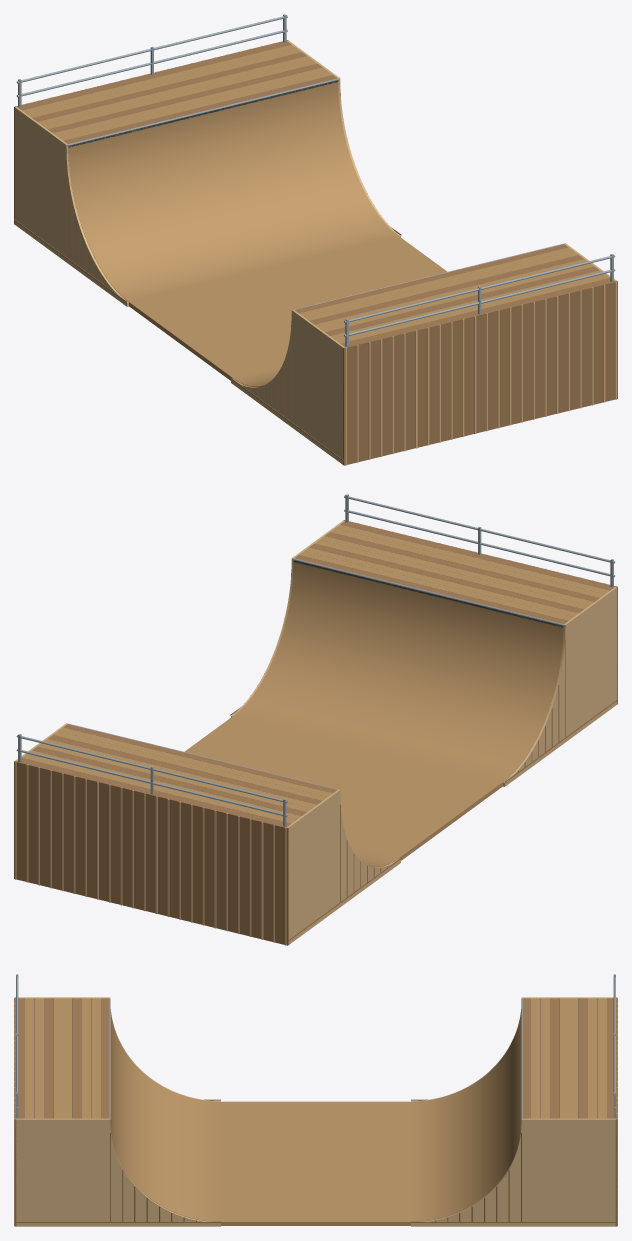
File: skate_mega_halfpipe.glb
3 views of the same model, one above another, from view 1: azimuth 30°, elevation 25°; view 2: azimuth 150°, elevation 25°; view 3: azimuth 270°, elevation 25° (orthographic). The views are drawn at different scales.
Parts seen in each view (by area): view 1: VISUAL__mega_back_ride, VISUAL__mega_front_closed_back, VISUAL__mega_flat, VISUAL__mega_front_deck_side_left, VISUAL__mega_back_deck_side_left, VISUAL__mega_back_side_left, VISUAL__mega_front_side_left, VISUAL__mega_back_deck_plank.003, VISUAL__mega_back_deck_plank.008, VISUAL__mega_front_deck_plank.002, VISUAL__mega_back_deck_plank.007, VISUAL__mega_back_deck_plank.002 (+20 smaller); view 2: VISUAL__mega_front_ride, VISUAL__mega_back_closed_back, VISUAL__mega_flat, VISUAL__mega_front_deck_side_left, VISUAL__mega_back_deck_side_left, VISUAL__mega_front_side_left, VISUAL__mega_back_side_left, VISUAL__mega_back_deck_plank.007, VISUAL__mega_front_deck_plank.001, VISUAL__mega_front_deck_plank.006, VISUAL__mega_front_deck_plank.002, VISUAL__mega_front_deck_plank.003 (+21 smaller); view 3: VISUAL__mega_flat, VISUAL__mega_back_ride, VISUAL__mega_front_ride, VISUAL__mega_back_deck_side_right, VISUAL__mega_front_deck_side_right, VISUAL__mega_back_side_right, VISUAL__mega_front_side_right, VISUAL__mega_back_deck_plank.001, VISUAL__mega_back_deck_plank.002, VISUAL__mega_back_deck_plank.003, VISUAL__mega_back_deck_plank.004, VISUAL__mega_back_deck_plank.005 (+19 smaller).
Boxes of the visible parts, bbox=[...] form: VISUAL__mega_back_ride: bbox=[68, 79, 398, 301]; VISUAL__mega_front_closed_back: bbox=[343, 281, 617, 465]; VISUAL__mega_flat: bbox=[129, 236, 447, 380]; VISUAL__mega_front_deck_side_left: bbox=[291, 309, 344, 464]; VISUAL__mega_back_deck_side_left: bbox=[15, 106, 68, 261]; VISUAL__mega_back_side_left: bbox=[66, 145, 128, 306]; VISUAL__mega_front_side_left: bbox=[231, 321, 291, 426]; VISUAL__mega_back_deck_plank.003: bbox=[32, 52, 306, 121]; VISUAL__mega_back_deck_plank.008: bbox=[58, 71, 332, 140]; VISUAL__mega_front_deck_plank.002: bbox=[304, 251, 578, 320]; VISUAL__mega_back_deck_plank.007: bbox=[53, 67, 327, 136]; VISUAL__mega_back_deck_plank.002: bbox=[27, 48, 301, 117]; VISUAL__mega_front_ride: bbox=[233, 559, 563, 781]; VISUAL__mega_back_closed_back: bbox=[14, 761, 288, 945]; VISUAL__mega_flat: bbox=[184, 716, 502, 860]; VISUAL__mega_front_deck_side_left: bbox=[563, 587, 617, 741]; VISUAL__mega_back_deck_side_left: bbox=[287, 789, 340, 944]; VISUAL__mega_front_side_left: bbox=[503, 625, 565, 786]; VISUAL__mega_back_side_left: bbox=[340, 801, 400, 906]; VISUAL__mega_back_deck_plank.007: bbox=[53, 731, 327, 800]; VISUAL__mega_front_deck_plank.001: bbox=[299, 551, 573, 620]; VISUAL__mega_front_deck_plank.006: bbox=[325, 532, 599, 601]; VISUAL__mega_front_deck_plank.002: bbox=[304, 547, 578, 616]; VISUAL__mega_front_deck_plank.003: bbox=[309, 543, 583, 612]; VISUAL__mega_flat: bbox=[221, 1101, 410, 1225]; VISUAL__mega_back_ride: bbox=[411, 1010, 521, 1221]; VISUAL__mega_front_ride: bbox=[110, 1010, 220, 1221]; VISUAL__mega_back_deck_side_right: bbox=[521, 1118, 616, 1226]; VISUAL__mega_front_deck_side_right: bbox=[16, 1118, 110, 1226]; VISUAL__mega_back_side_right: bbox=[411, 1125, 521, 1226]; VISUAL__mega_front_side_right: bbox=[110, 1125, 220, 1226]; VISUAL__mega_back_deck_plank.001: bbox=[597, 998, 606, 1118]; VISUAL__mega_back_deck_plank.002: bbox=[588, 998, 597, 1118]; VISUAL__mega_back_deck_plank.003: bbox=[578, 998, 587, 1118]; VISUAL__mega_back_deck_plank.004: bbox=[569, 998, 578, 1118]; VISUAL__mega_back_deck_plank.005: bbox=[559, 998, 568, 1118].
Size of the model in its own units: 9.17 by 4.6 by 19.1.
